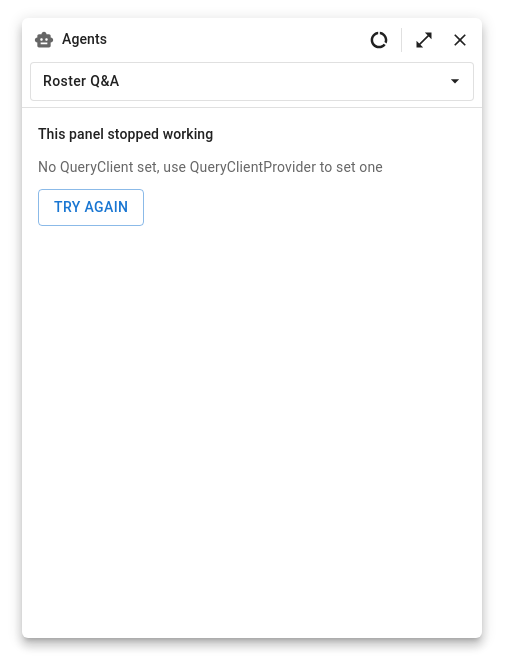
Test: Ingestion tab › surfaces the duplicate warning and degradation notes prominently
This screenshot has width=505, height=668.
Click the button "Roster Q&A" at coordinates (81, 81), box x1=30 y1=62 x2=474 y2=100
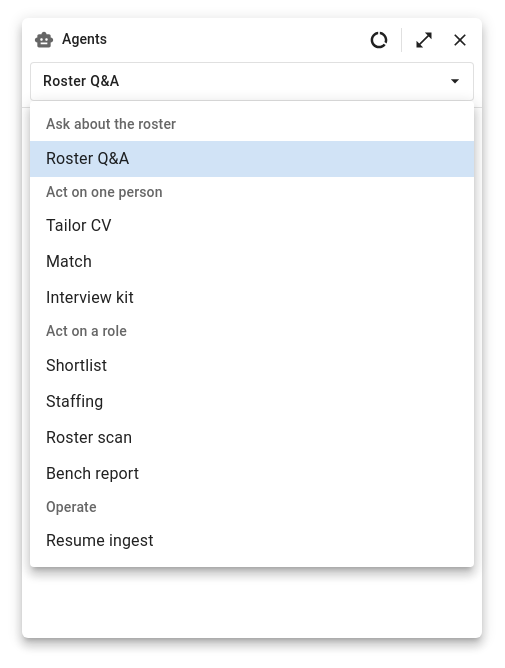
Click the menu item "Resume ingest" at coordinates (100, 540), box x1=46 y1=531 x2=154 y2=550
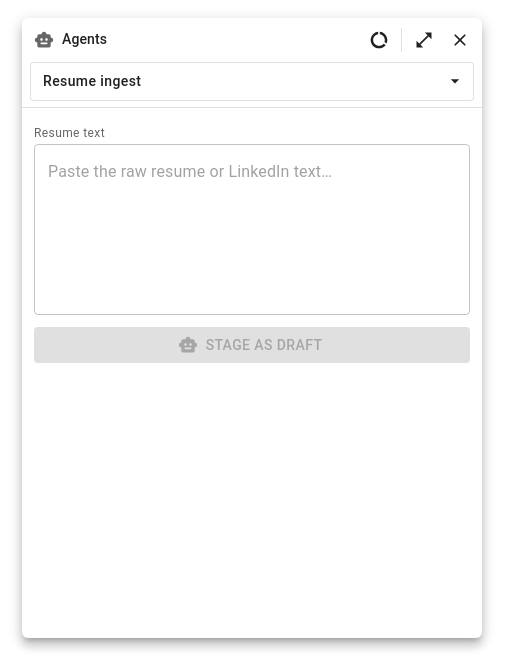
Type "some resume text" into the text box with placeholder "Paste the raw resume or LinkedIn text…" at coordinates (252, 229), box x1=48 y1=160 x2=456 y2=298
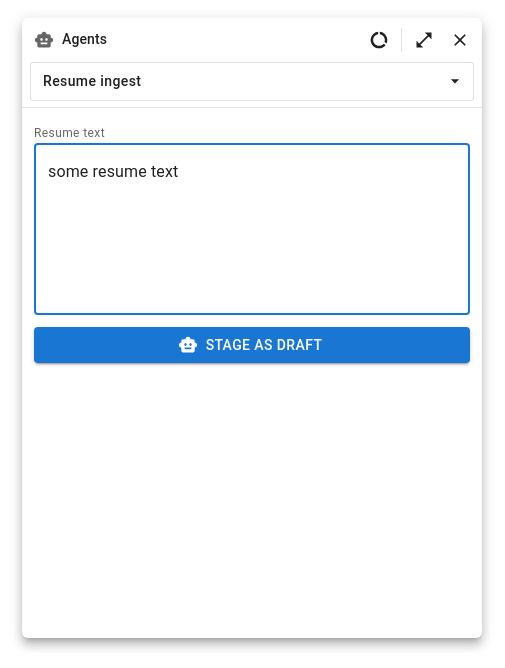
Click the button "Stage as draft" at coordinates (252, 345), box x1=34 y1=326 x2=470 y2=363
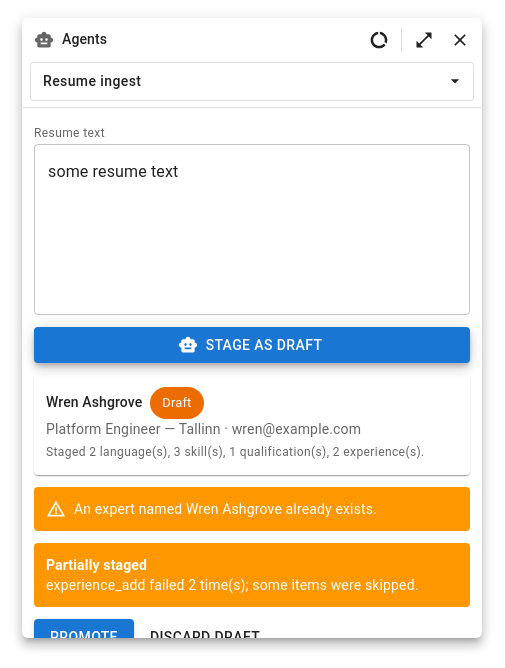
Result: the element with test id "ingestion-dupe-warning" shows "already exists" at x1=74 y1=501 x2=377 y2=517
Result: the element with test id "ingestion-notes" shows "experience_add failed" at x1=46 y1=577 x2=419 y2=593
